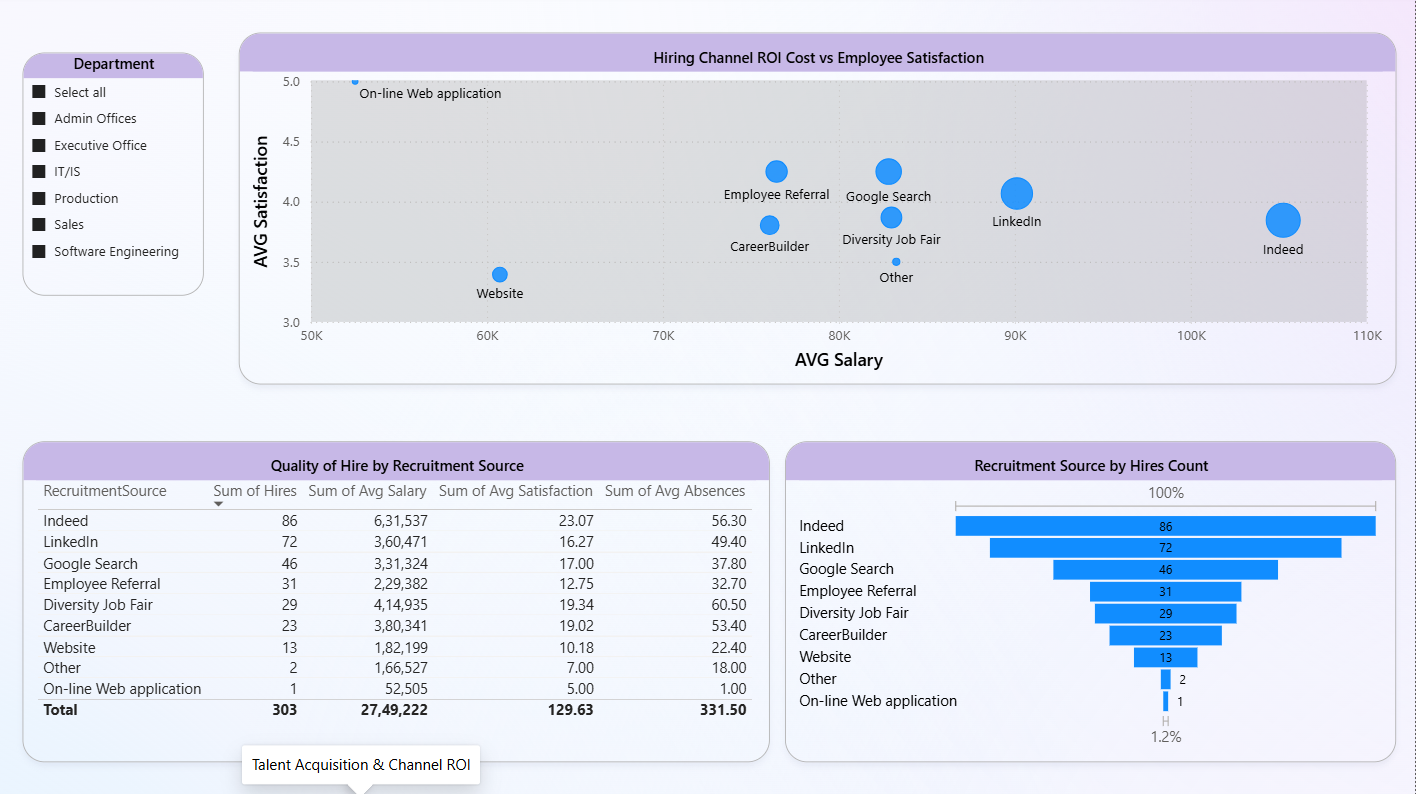

The page's visual inventory and layout, read from the dashboard file:
{"tool":"powerbi","page":{"name":"Talent Acquisition & Channel ROI","canvas":[1280,720],"ordinal":1},"visuals":[{"type":"funnel","title":"Recruitment Source by Hires Count","fields":{"Category":["project_2_hr_analytics recruitment_source.RecruitmentSource"],"Y":["Sum(project_2_hr_analytics recruitment_source.Hires_Count)"]},"box":[710,398.8,552.5,290],"z":1000},{"type":"scatterChart","title":"Hiring Channel ROI Cost vs Employee Satisfaction","fields":{"X":["Avg(project_2_hr_analytics recruitment_source.Avg_Salary)"],"Y":["Avg(project_2_hr_analytics recruitment_source.Avg_Satisfaction)"],"Size":["Sum(project_2_hr_analytics recruitment_source.Hires_Count)"],"Category":["project_2_hr_analytics recruitment_source.RecruitmentSource"]},"box":[215.6,28.8,1047.5,318.8],"z":2000},{"type":"tableEx","title":"Quality of Hire by Recruitment Source","fields":{"Values":["project_2_hr_analytics recruitment_source.RecruitmentSource","Sum(project_2_hr_analytics recruitment_source.Hires_Count)","Sum(project_2_hr_analytics recruitment_source.Avg_Salary)","Sum(project_2_hr_analytics recruitment_source.Avg_Satisfaction)","Sum(project_2_hr_analytics recruitment_source.Avg_Absences)"]},"box":[20,398.8,676.2,290],"z":3000},{"type":"slicer","title":"Department ","fields":{"Values":["project_2_hr_analytics dim_department.Department"]},"box":[20,47.5,163.8,220],"z":4000}]}

Visuals, with their boxes in screenshot pixels (x1, y1, x2, y2), scaled from the page's 1280x720 canvas onto the 1416x794 screenshot:
"Recruitment Source by Hires Count" funnel: <region>785, 440, 1397, 760</region>
"Hiring Channel ROI Cost vs Employee Satisfaction" scatterChart: <region>239, 32, 1397, 383</region>
"Quality of Hire by Recruitment Source" tableEx: <region>22, 440, 770, 760</region>
"Department " slicer: <region>22, 52, 203, 295</region>
